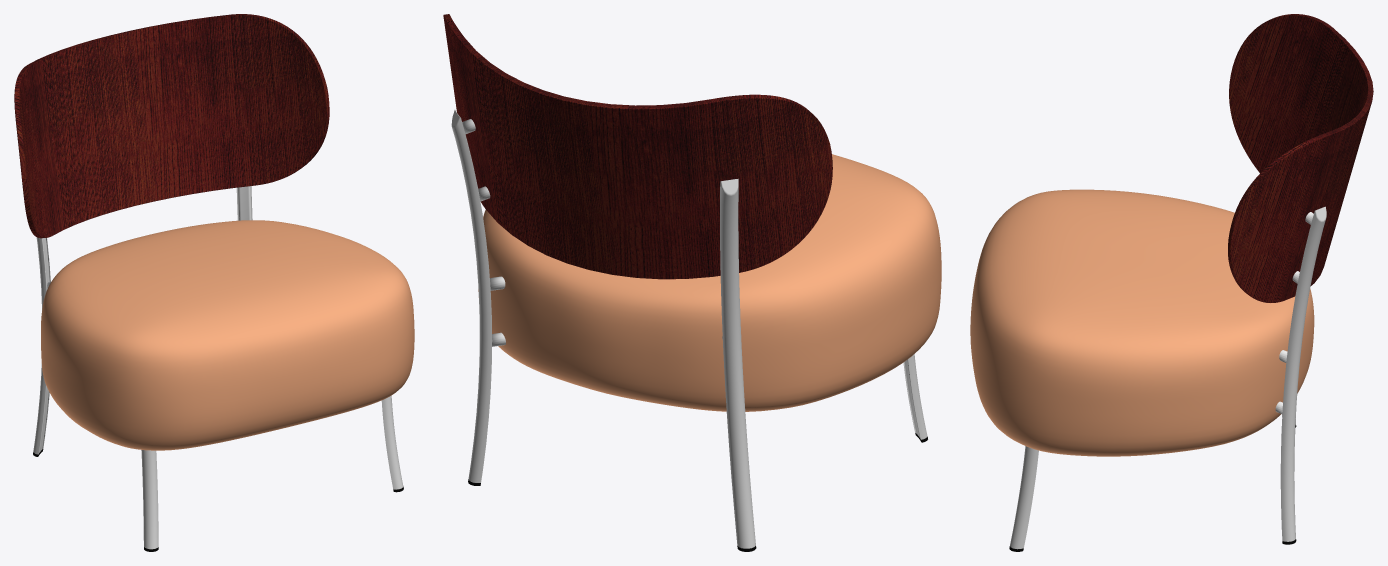
The model's file is chair_04-v2.glb.
The picture shows the model from 3 angles, left to right: view 1: azimuth 30°, elevation 25°; view 2: azimuth 150°, elevation 25°; view 3: azimuth 270°, elevation 25°; orthographic projection. The views are drawn at different scales.
Visible parts, largest first — view 1: de_padova_bistro_obj; view 2: de_padova_bistro_obj; view 3: de_padova_bistro_obj.
Part boxes in pixels (box(x1,y1,x2,y2)): de_padova_bistro_obj: box(14, 14, 414, 551); de_padova_bistro_obj: box(443, 14, 941, 551); de_padova_bistro_obj: box(970, 14, 1373, 551).
Size of the model in its own units: 0.5339 by 0.5943 by 0.5338.
4 materials, 1 textured.
